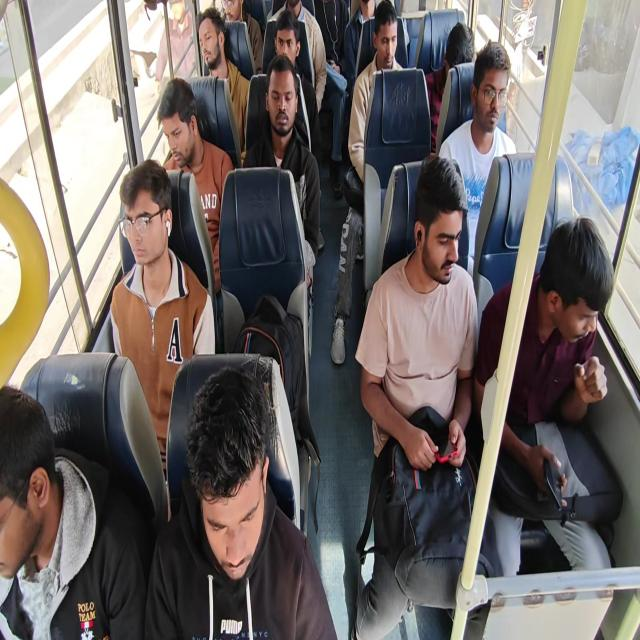person: (543, 248, 640, 454), (170, 407, 264, 598), (424, 175, 492, 288), (0, 366, 37, 556), (131, 192, 176, 330), (487, 38, 520, 151), (147, 82, 185, 152), (305, 0, 343, 64), (452, 28, 488, 92), (201, 10, 232, 80), (372, 14, 404, 75), (267, 72, 280, 146), (272, 0, 302, 31), (221, 0, 249, 28), (276, 24, 290, 76), (358, 1, 382, 31)
